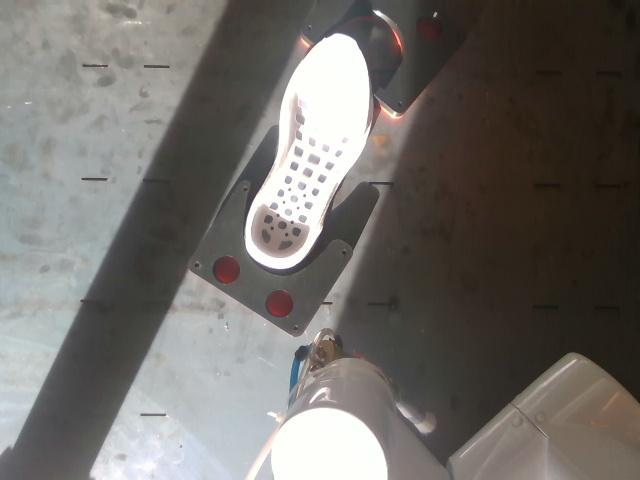shoes: (250, 34, 369, 259)
